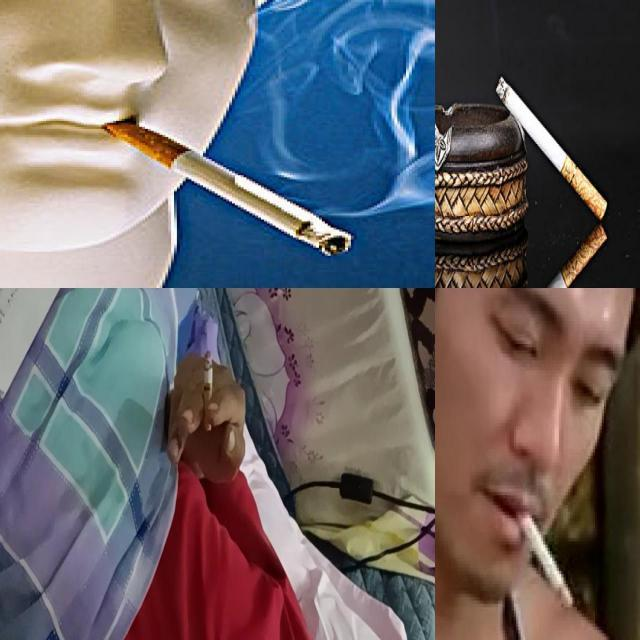cigarette: (99, 116, 354, 258), (494, 74, 608, 222), (512, 499, 574, 609), (204, 349, 212, 432)
